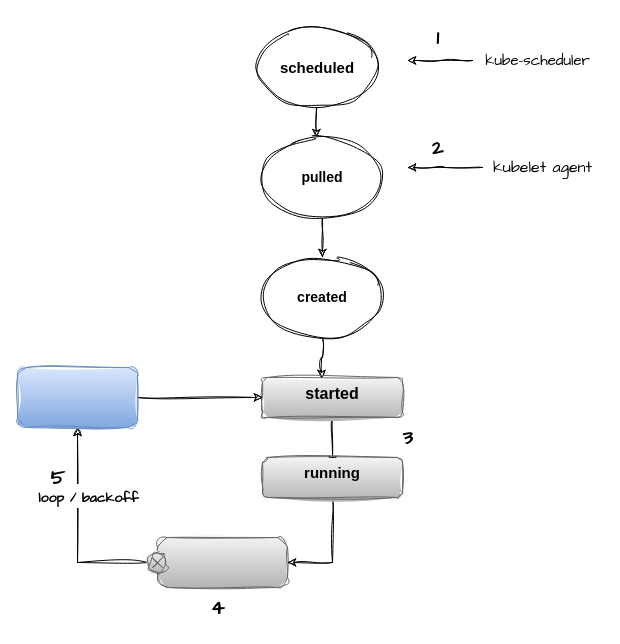
Image size: 620x644. Some labels were removed from this diagram. The shapes that lost their labels are listed below. From the top down, each one's box as (x1, y1, x2, y2) in pixels, then its label:
(16, 366, 138, 428): CrashLoopBackOff
(146, 536, 288, 588): error / failed
